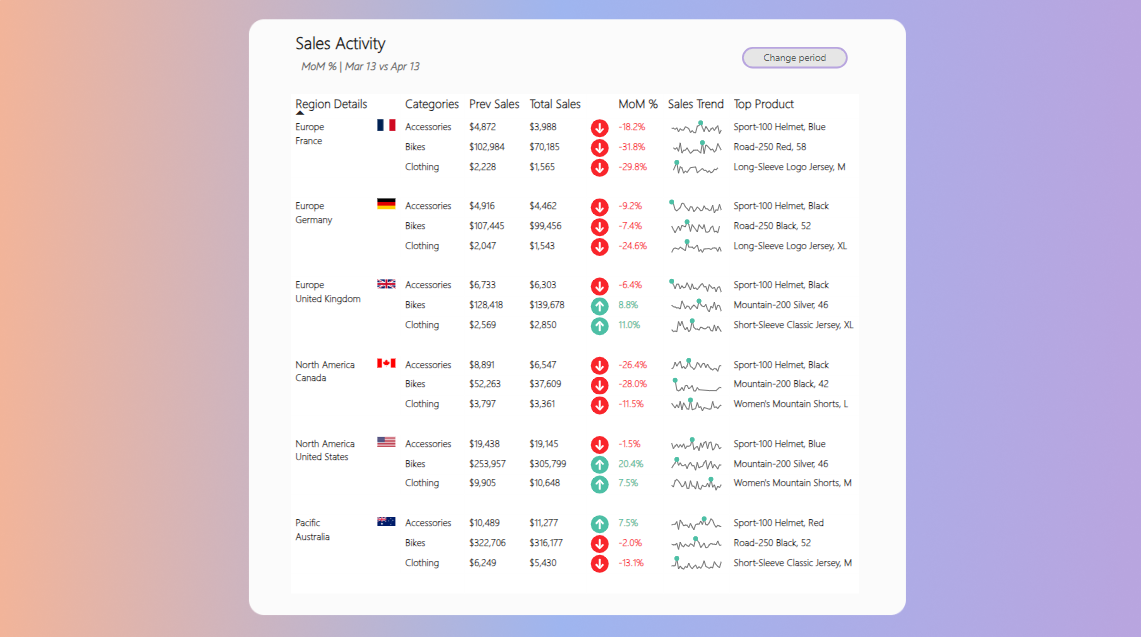

Layout of this report page (visuals, bound fields, positions):
{"tool":"powerbi","page":{"name":"Page 1","canvas":[1280,720],"ordinal":0},"visuals":[{"type":"pivotTable","fields":{"Rows":["dim_sales_territory.SalesTerritoryCountry","dim_products.EnglishProductCategoryName"],"Values":["metrics.units_sold","Metrics.total_sales","metrics.total_profit","metrics.units solds mom","metrics.current_month_sales","metrics.previous_month_sales","metrics.mom dynamic"]},"box":[393.8,118.8,858.8,516.2],"z":0},{"type":"cardVisual","fields":{"Data":["metrics.total_sales"]},"box":[17.5,119.2,275.8,140],"z":3000},{"type":"cardVisual","fields":{"Data":["metrics.total_sales"]},"box":[17.5,307.5,337.5,140],"z":4000},{"type":"cardVisual","fields":{"Data":["metrics.total_sales"]},"box":[17.5,495,337.5,140],"z":5000},{"type":"card","fields":{"Values":["metrics.current_vs_previous"]},"box":[140,180.8,141.7,28.3],"z":6000},{"type":"shape","box":[28.5,188.7,64.9,14.6],"z":7000},{"type":"card","fields":{"Values":["metrics.dynamic text"]},"box":[28.5,183.8,64.9,24.6],"z":8000}]}

Visuals, with their boxes in screenshot pixels (x1, y1, x2, y2), scaled from the page's 1280x720 canvas onto the 1141x637 screenshot:
pivotTable - dim_sales_territory.SalesTerritoryCountry x dim_products.EnglishProductCategoryName: (351,105,1117,562)
cardVisual - metrics.total_sales: (16,105,261,229)
cardVisual - metrics.total_sales: (16,272,316,396)
cardVisual - metrics.total_sales: (16,438,316,562)
card - metrics.current_vs_previous: (125,160,251,185)
shape: (25,167,83,180)
card - metrics.dynamic text: (25,163,83,184)
